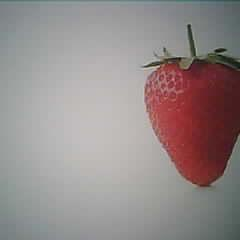straw-ripe: (144, 59, 240, 189)
